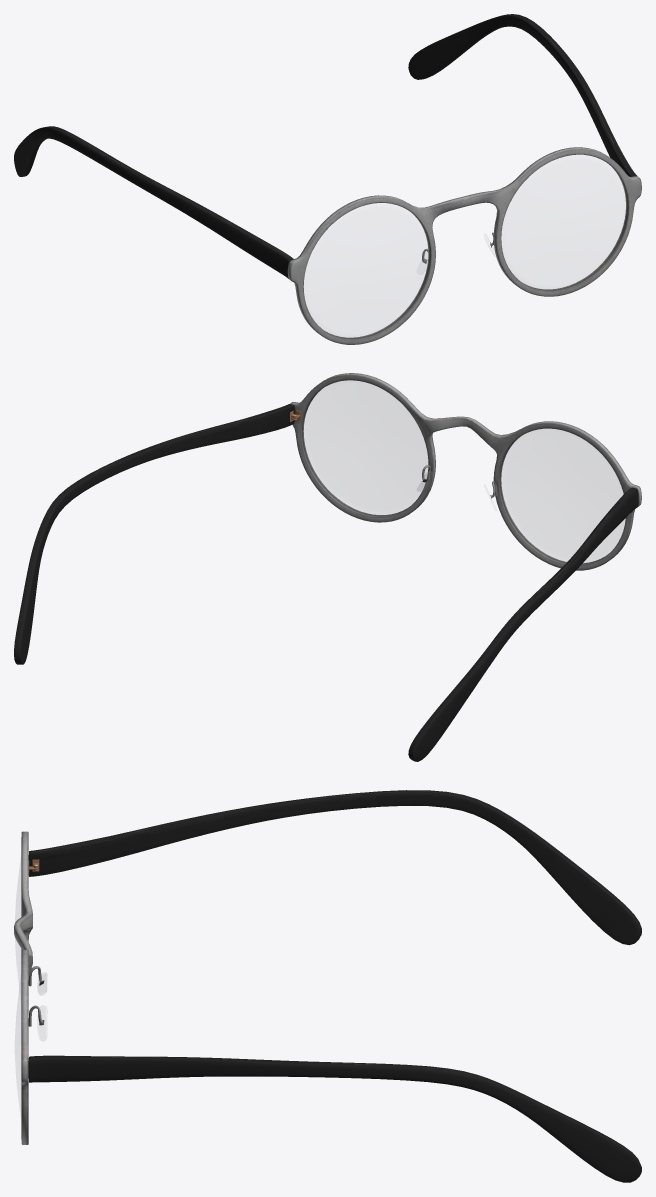
File: glasses.glb
3 views of the same model, one above another, from view 1: azimuth 30°, elevation 25°; view 2: azimuth 150°, elevation 25°; view 3: azimuth 270°, elevation 25° (orthographic). The views are drawn at different scales.
Visible parts, largest first — view 1: round_spectacles; view 2: round_spectacles; view 3: round_spectacles.
Boxes of the visible parts, left/top/right/bottom form: round_spectacles: left=14, top=14, right=641, bottom=344; round_spectacles: left=14, top=373, right=641, bottom=761; round_spectacles: left=14, top=790, right=641, bottom=1182.
Size of the model in its own units: 0.1578 by 0.0463 by 0.149.
2 materials, 1 textured.
